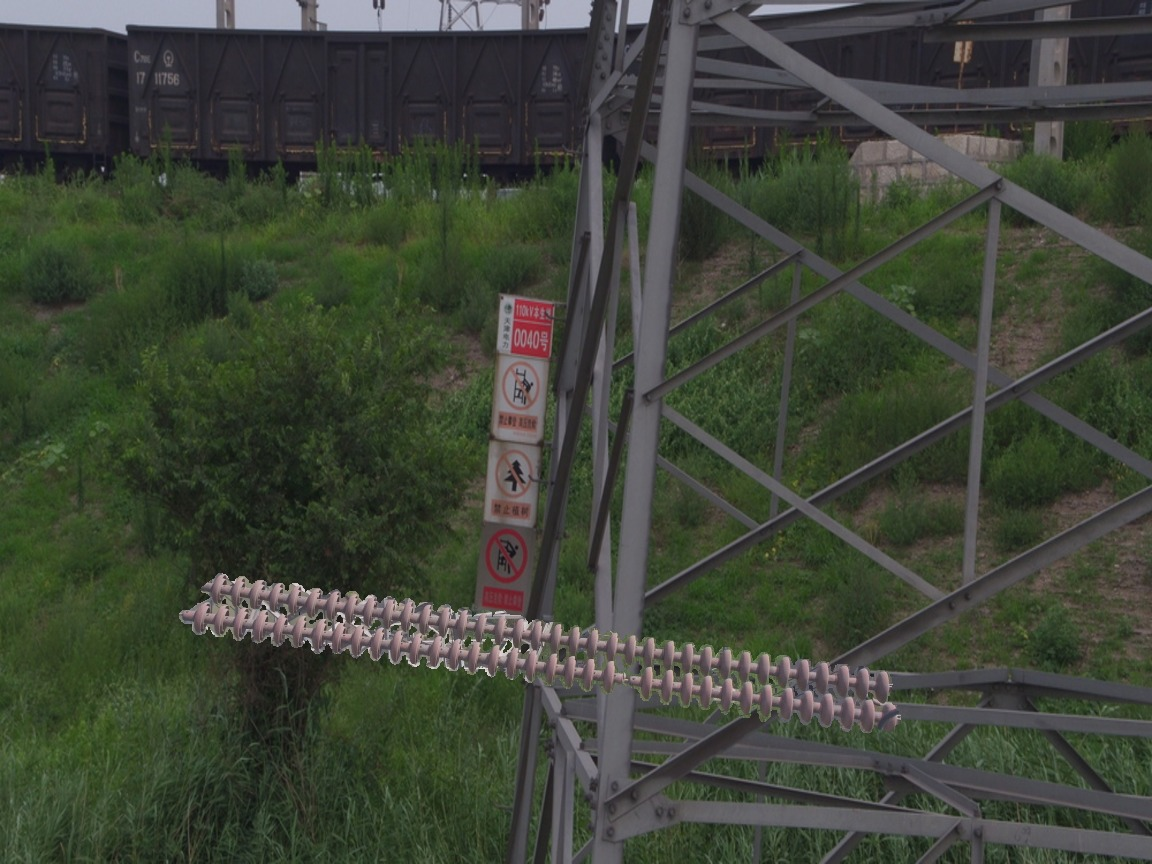defect: (597, 658, 660, 700)
